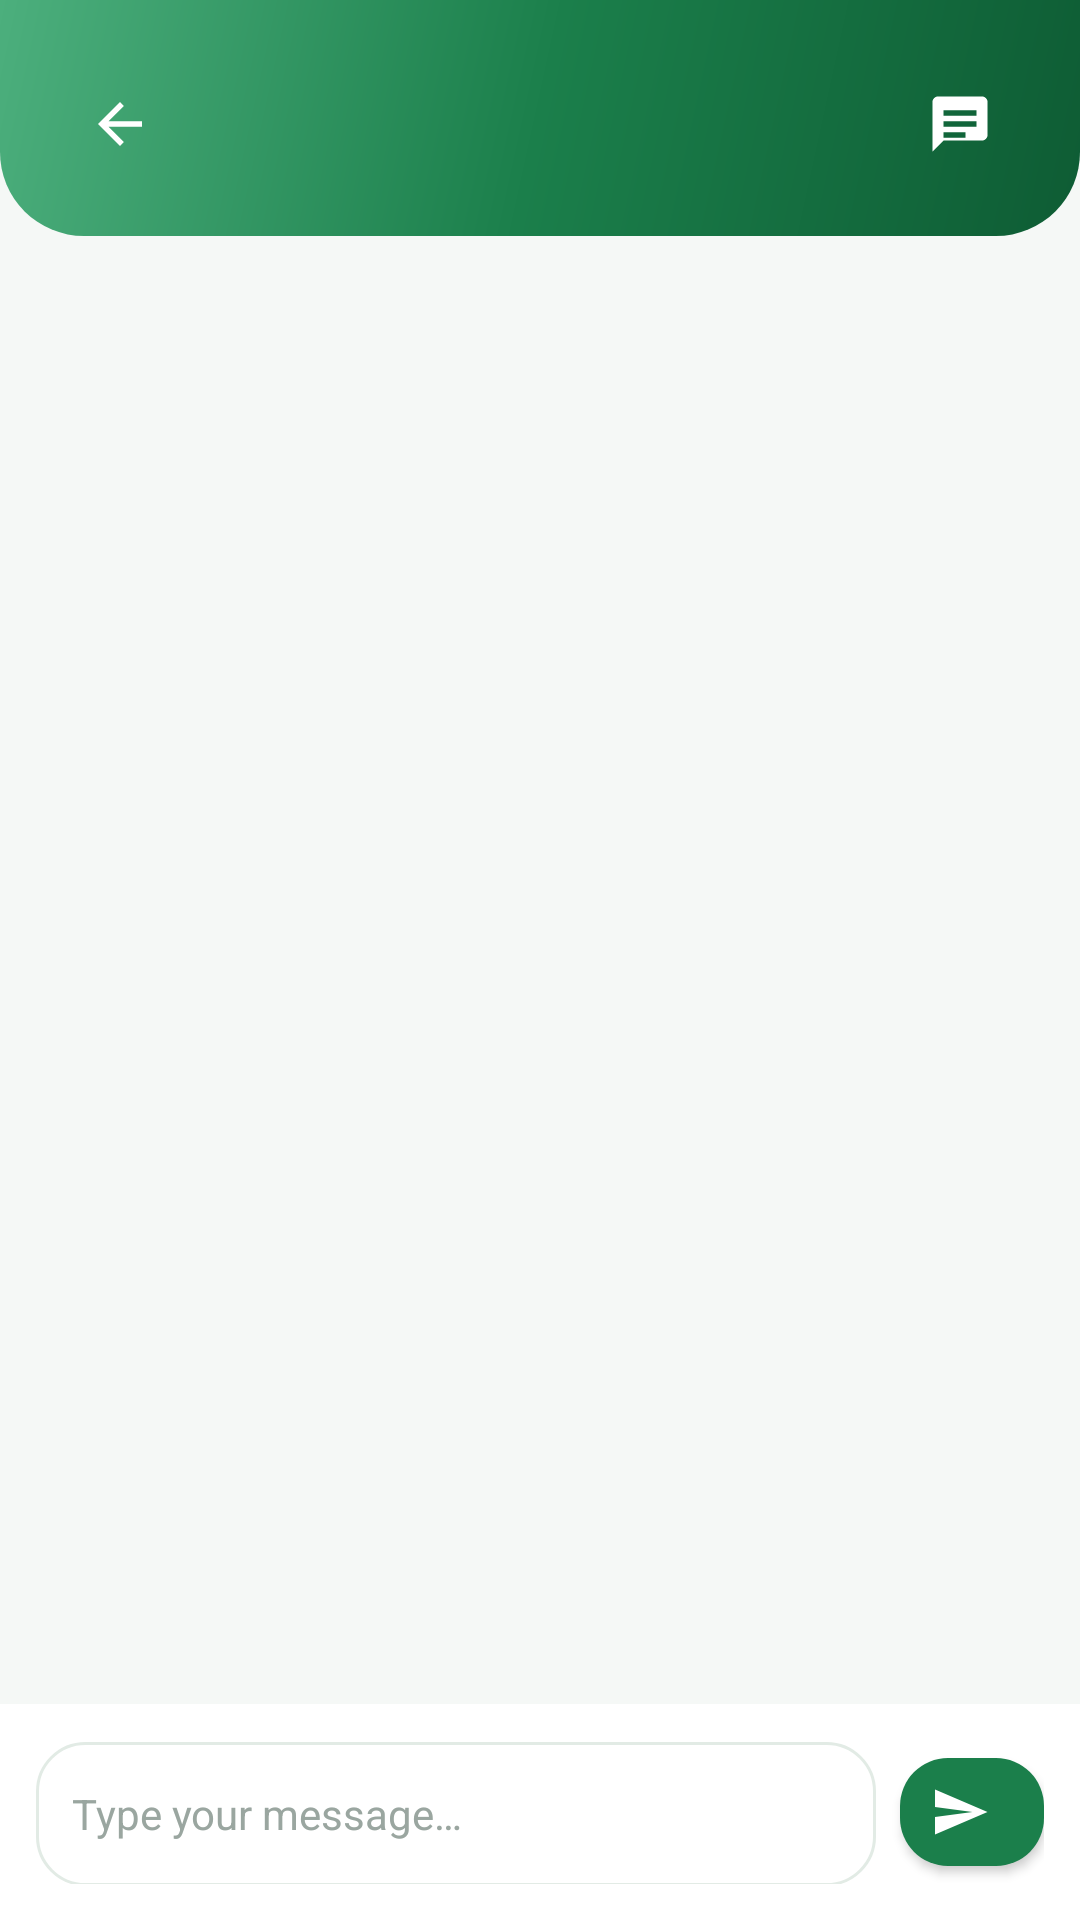

Icons on this 1080w x 1920h Android screen, each with the point to tap as (x,y):
Chat: (960,124)
Navigate back: (120,124)
send: (972,1815)
